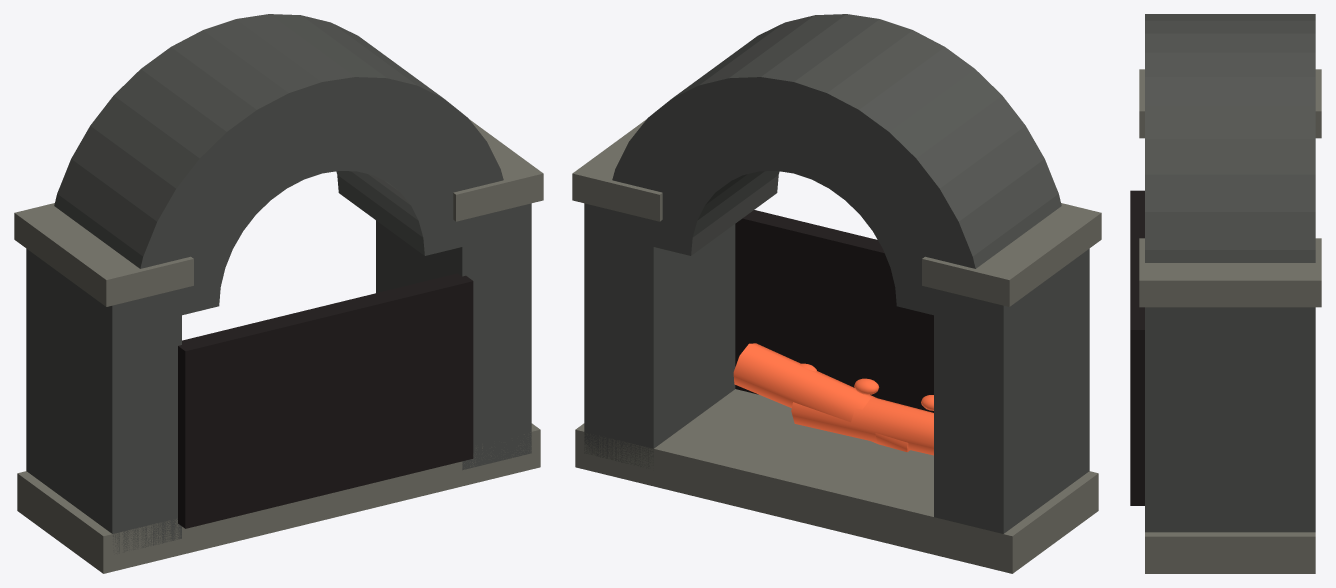
Rendered from sk_fireplace.glb.
3 views of the same model, side by side, from view 1: azimuth 30°, elevation 25°; view 2: azimuth 150°, elevation 25°; view 3: azimuth 270°, elevation 25° (orthographic).
Visible parts, largest first — view 1: brick, object 2; view 2: brick, object 2, object 3; view 3: brick, object 2.
Part boxes in pixels (left/top/right/bottom): brick: left=14, top=14, right=543, bottom=573; object 2: left=178, top=273, right=473, bottom=528; brick: left=572, top=14, right=1101, bottom=573; object 2: left=735, top=210, right=933, bottom=412; object 3: left=733, top=343, right=933, bottom=455; brick: left=1139, top=14, right=1321, bottom=573; object 2: left=1130, top=190, right=1144, bottom=505.
Size of the model in its own units: 1.7 by 1.63 by 0.65.
